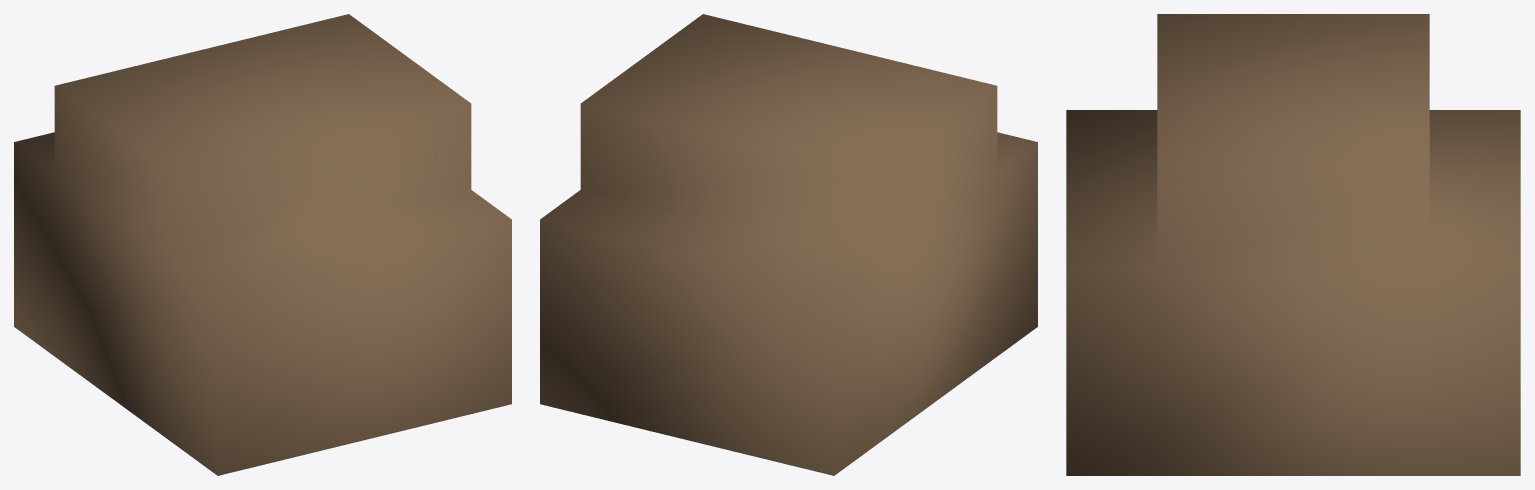
Rendered from goat_ranch.obj.
The picture shows the model from 3 angles, left to right: view 1: azimuth 30°, elevation 25°; view 2: azimuth 150°, elevation 25°; view 3: azimuth 270°, elevation 25°; orthographic projection. The views are drawn at different scales.
Visible parts, largest first — view 1: building; view 2: building; view 3: building.
Boxes of the visible parts, left/top/right/bottom form: building: left=14, top=14, right=511, bottom=475; building: left=540, top=14, right=1037, bottom=475; building: left=1066, top=14, right=1520, bottom=475.
Bounding box in the file's own units: 2.5 × 2.2 × 3.
